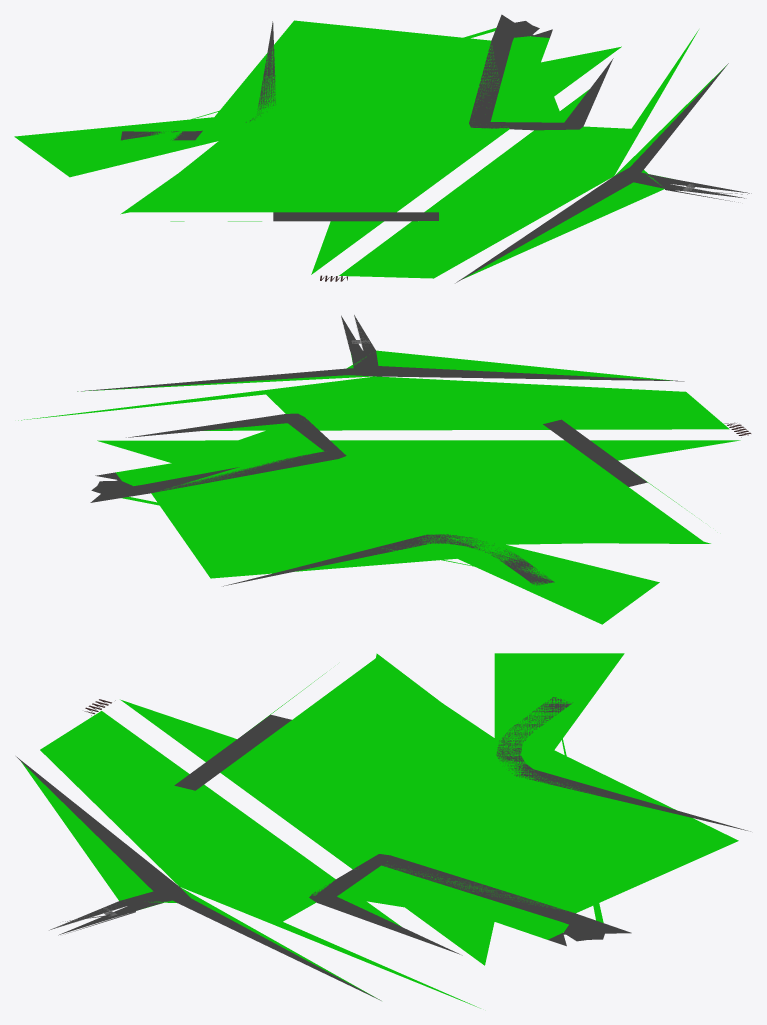
3 views of the same model, one above another, from view 1: azimuth 30°, elevation 25°; view 2: azimuth 150°, elevation 25°; view 3: azimuth 270°, elevation 25° (orthographic). The views are drawn at different scales.
Bounding box in the file's own units: 120 × 0.264 × 105.
